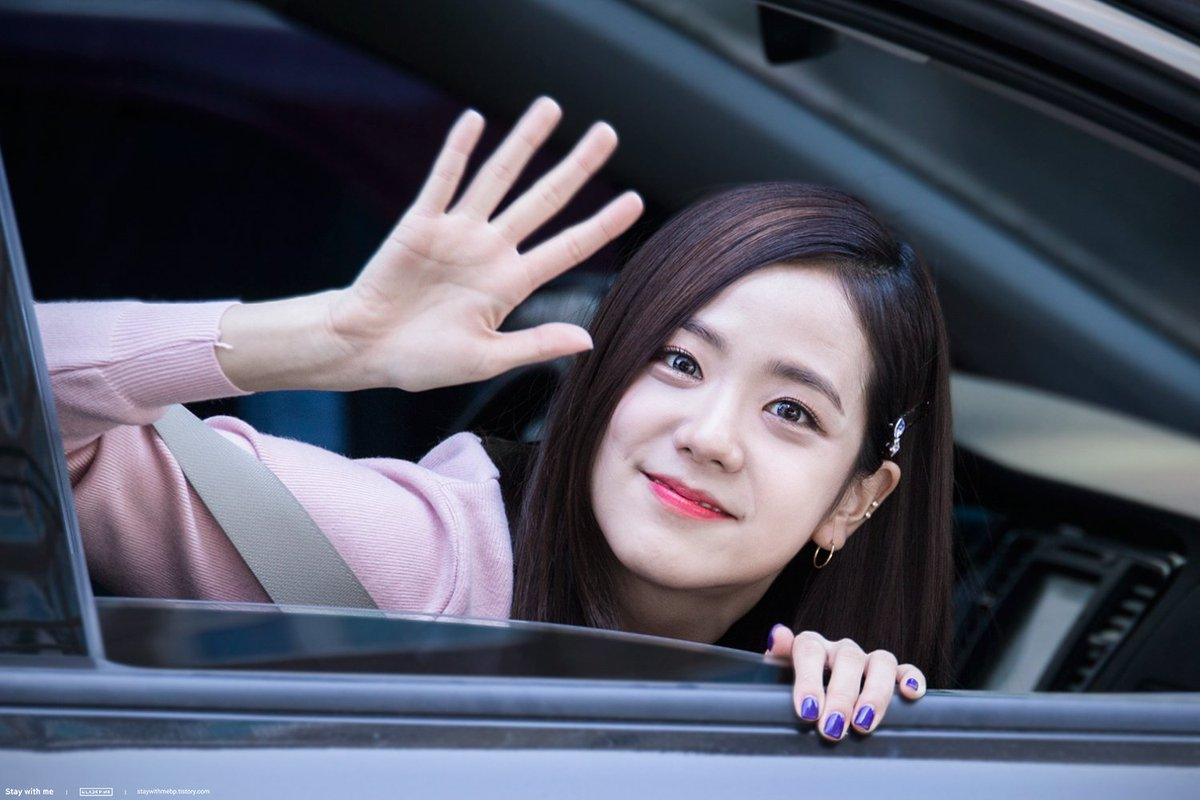face: (590, 263, 904, 592)
hand: (355, 89, 645, 395), (762, 616, 930, 741)
